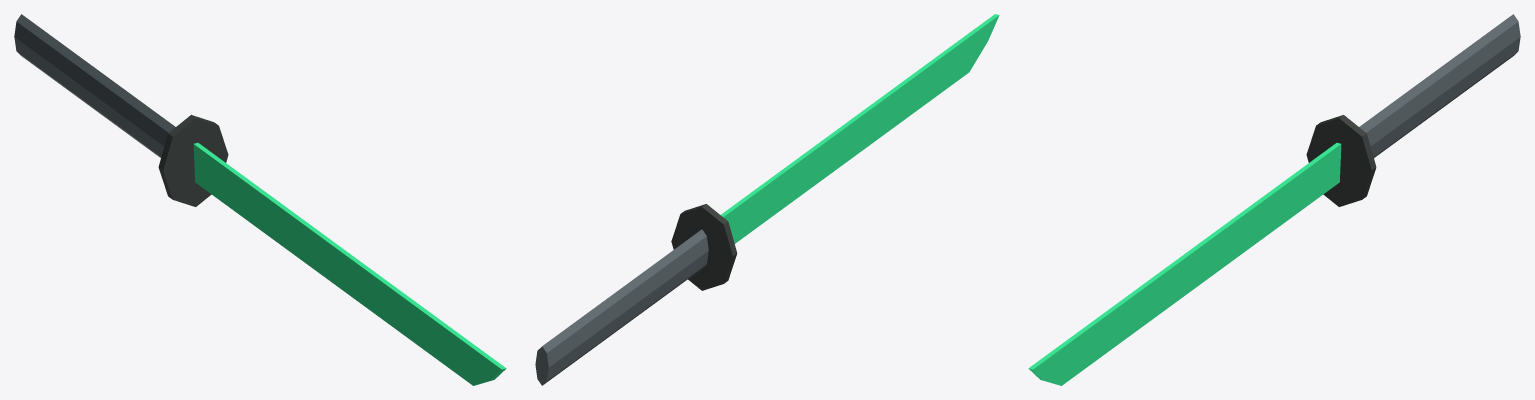
File: sword.fbx
3 renders of one model, left to right at view 1: azimuth 30°, elevation 25°; view 2: azimuth 150°, elevation 25°; view 3: azimuth 330°, elevation 25°, orthographic. The views are drawn at different scales.
Parts seen in each view (by area): view 1: Sword; view 2: Sword; view 3: Sword.
Boxes of the visible parts, x1,y1,x2,y2 form: Sword: (14,14,506,385); Sword: (535,14,999,385); Sword: (1028,14,1520,385).
Size of the model in its own units: 12.15 by 120 by 9.33.
